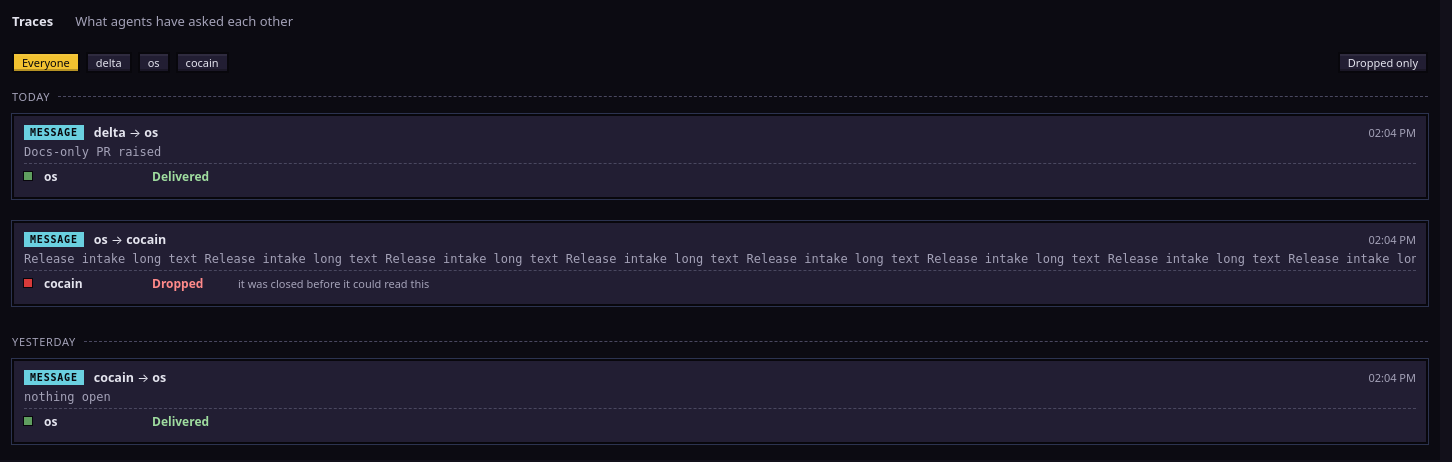
it: the Traces tab › filters by agent, and to the ones not delivered
Click the button "delta". click: (109, 62)
box: [86,52,132,72]
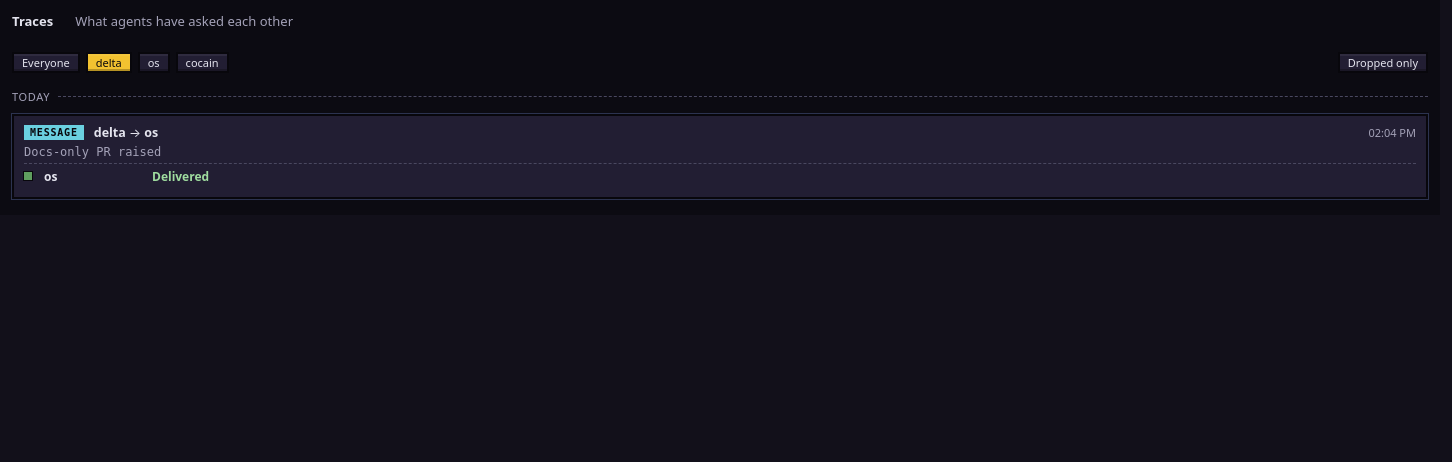
expect the text "Docs-only PR raised" is shown: met, box [24,144,161,158]
expect the text "nothing open" is gone: met
Click the button "Everyone". click: (46, 62)
box: [12,52,80,72]
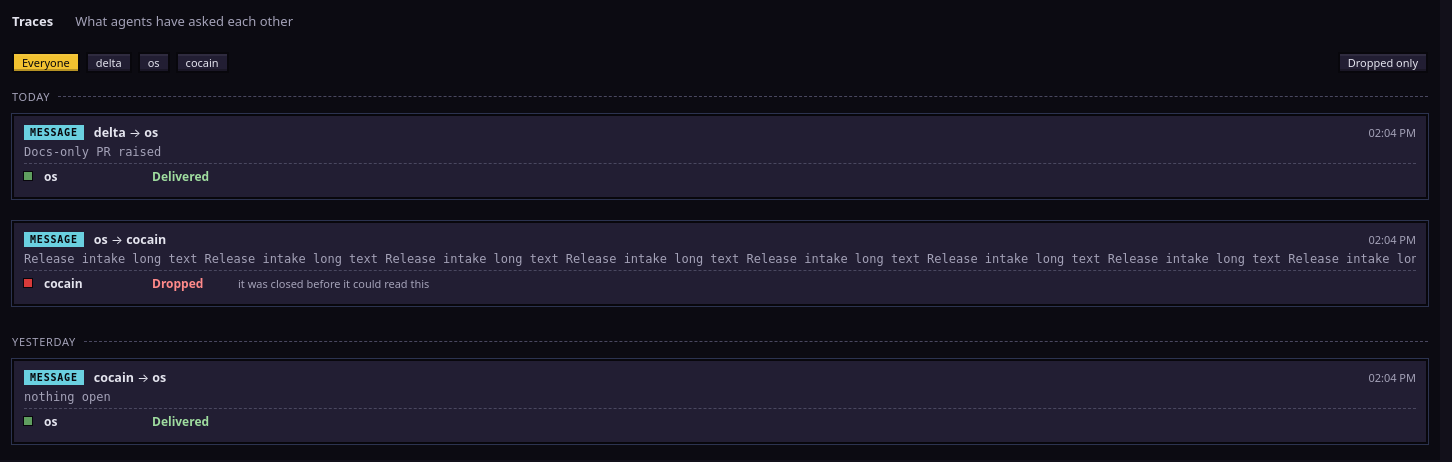
Click the button "Dropped only". click: (1383, 62)
box: [1338,52,1428,72]
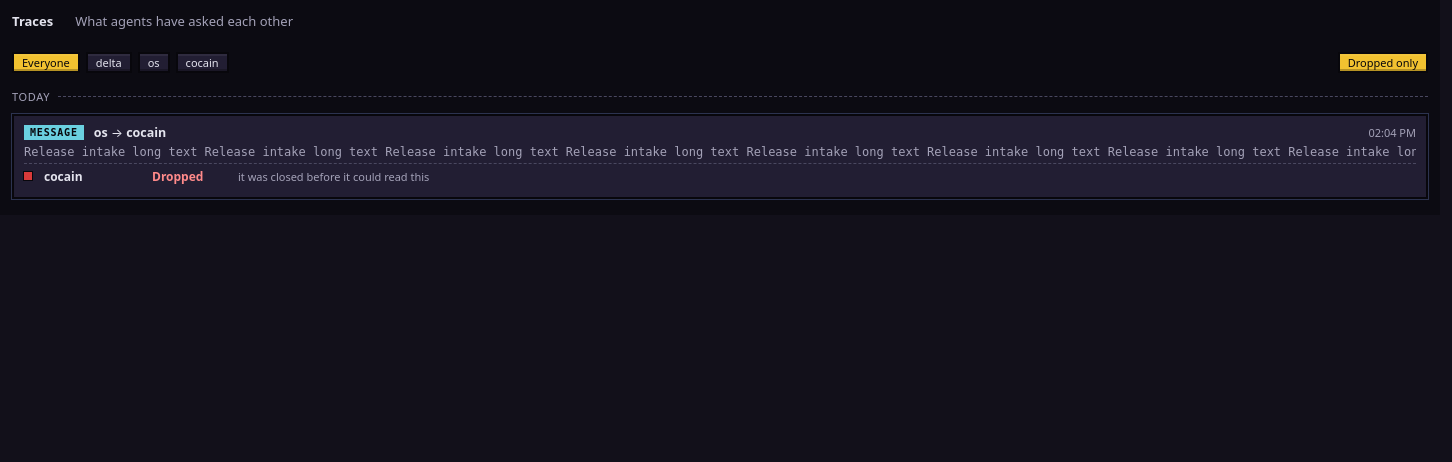
expect the text "Release intake" is shown: met, box [24,144,1440,158]
expect the text "Docs-only PR raised" is gone: met
